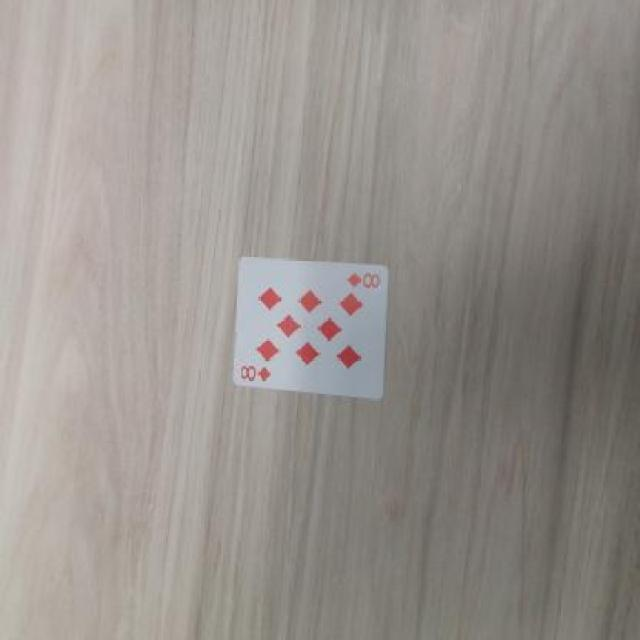8D: (231, 363, 277, 394), (336, 271, 392, 291)
